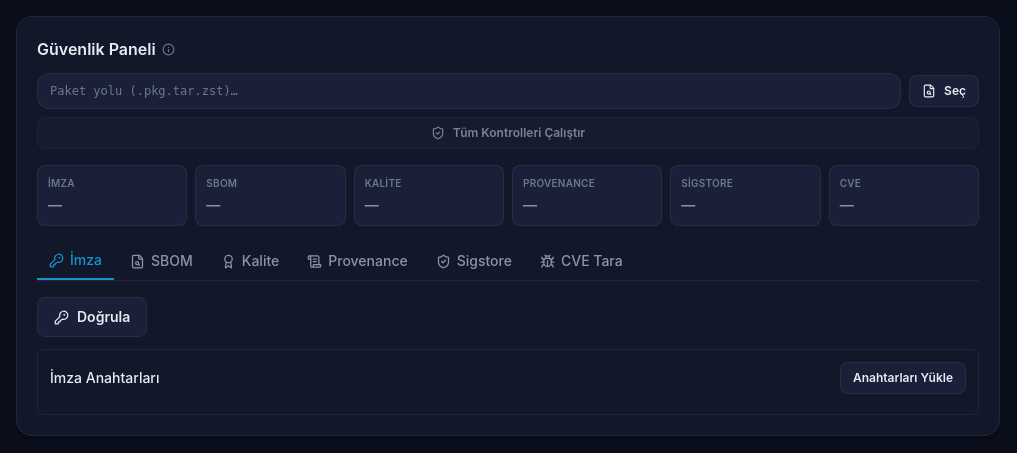
Scenario: Security page — tab panelleri ve branch kapsami › tab degisimi: her tabin kendi paneli acilir
Click the button "SBOM". click: x=161, y=261
box: [118,242,205,280]
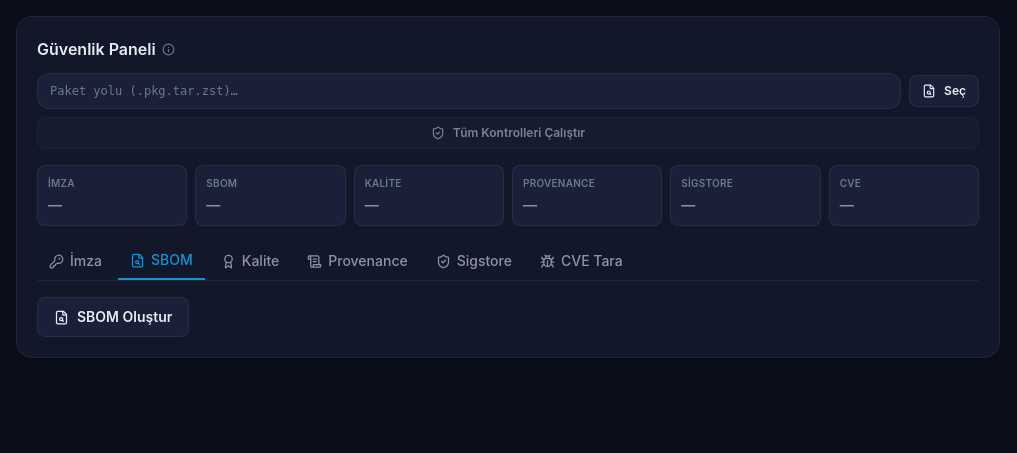
Expected: the button "SBOM Oluştur" is shown, [37,297,189,337]
Expected: the button "Doğrula" is gone
Click the button "Kalite". click: x=250, y=261
box: [209,242,291,280]
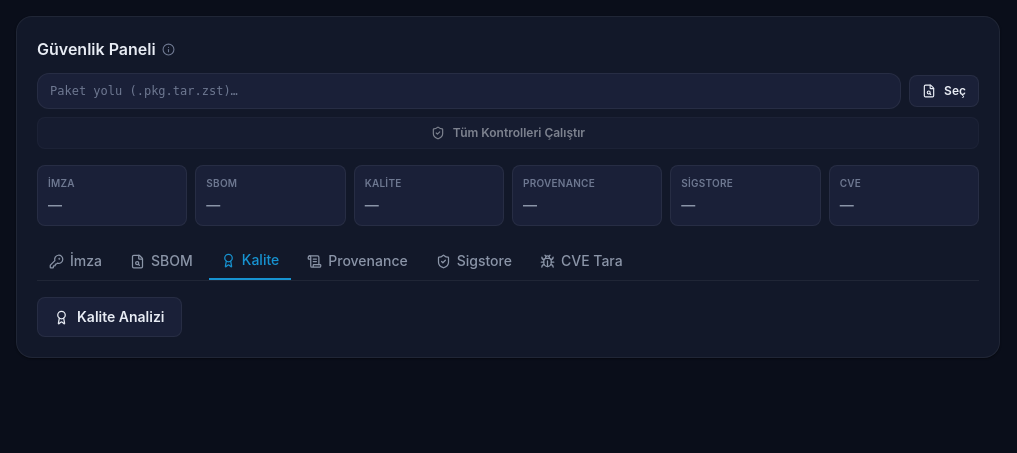
Expected: the button "Kalite Analizi" is shown, [37,297,182,337]
Expected: the button "SBOM Oluştur" is gone
Click the button "Provenance". click: x=358, y=261
box: [295,242,420,280]
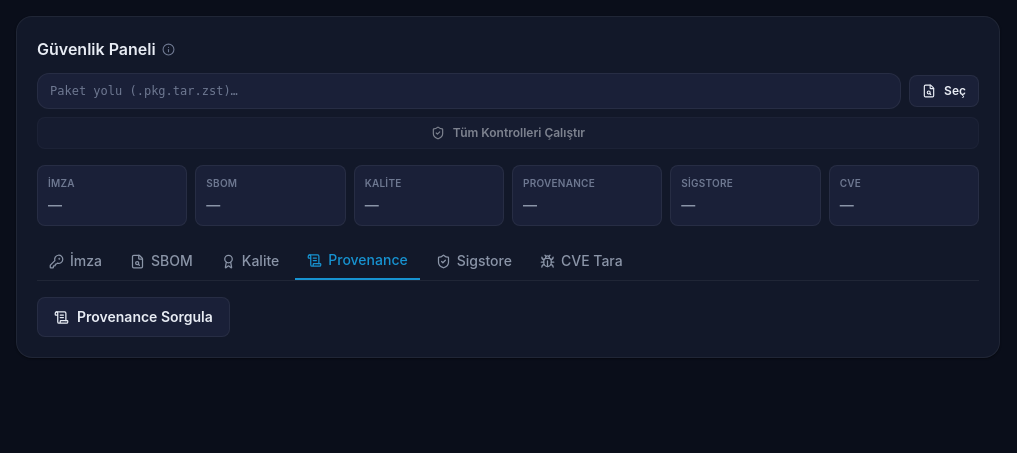
Expected: the button "Provenance Sorgula" is shown, [37,297,230,337]
Click the button "Sigstore". click: x=474, y=261
box: [424,242,524,280]
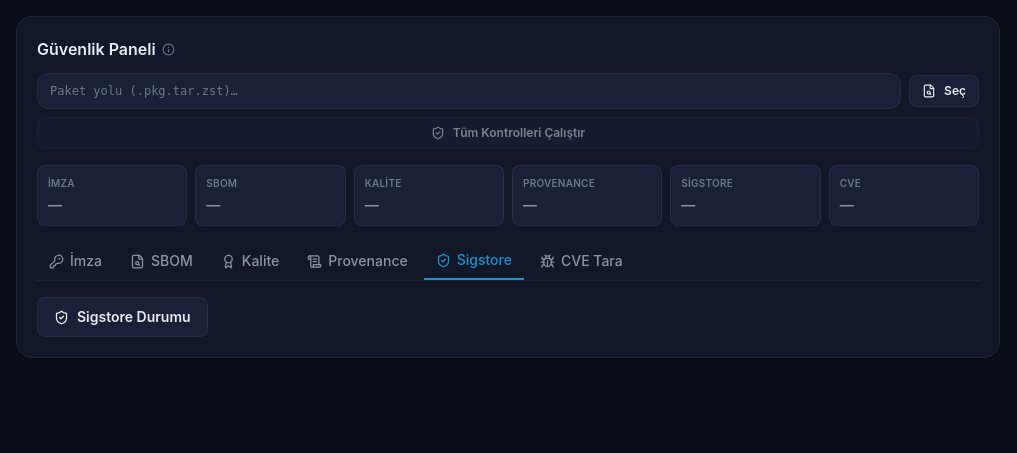
Expected: the button "Sigstore Durumu" is shown, [37,297,208,337]
Click the button "CVE Tara". click: x=581, y=261
box: [528,242,635,280]
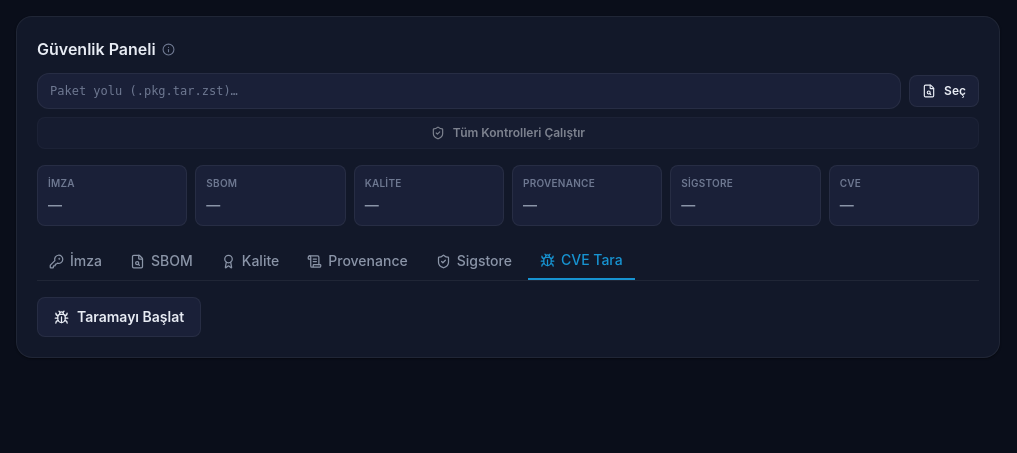
Expected: the button "Taramayı Başlat" is shown, [37,297,201,337]
Click the button "İmza". click: x=76, y=261
box: [37,242,114,280]
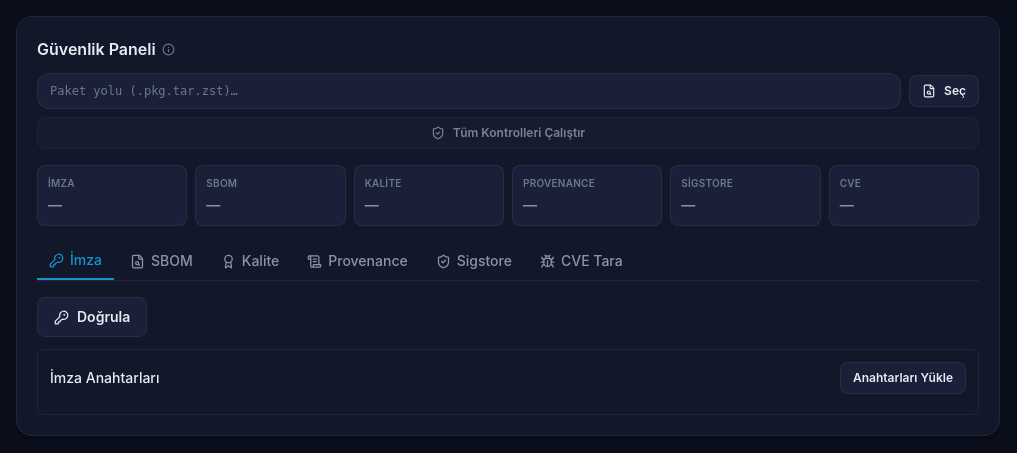
Expected: the button "Doğrula" is shown, [37,297,147,337]
Expected: the button "Anahtarları Yükle" is shown, [840,362,966,394]
